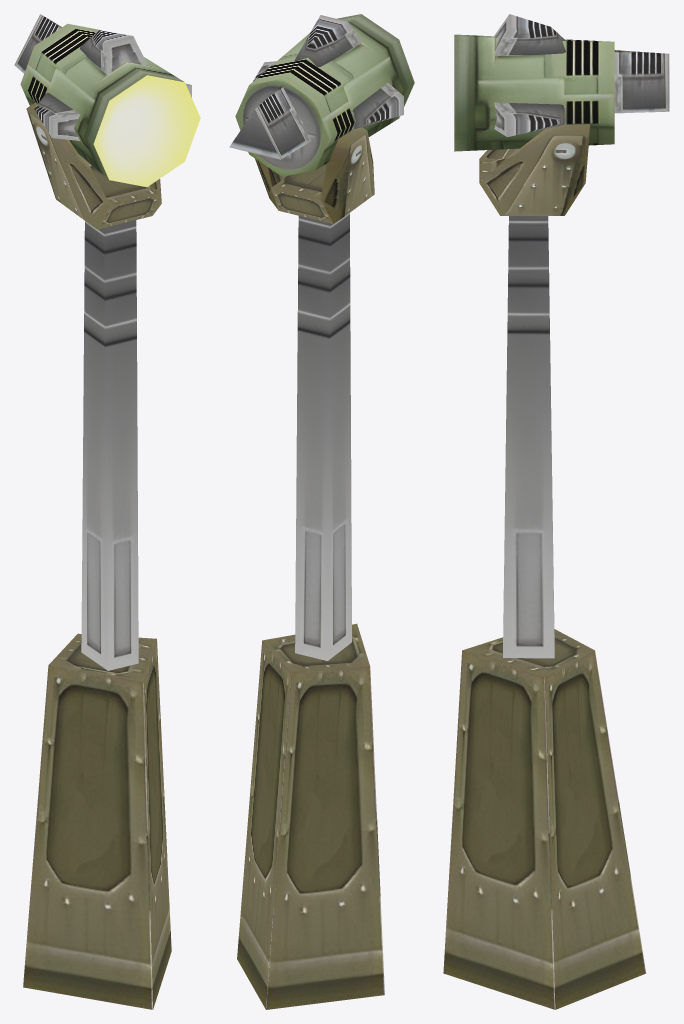
The model's file is spotlight_hdtex.glb.
The picture shows the model from 3 angles, left to right: view 1: azimuth 30°, elevation 25°; view 2: azimuth 150°, elevation 25°; view 3: azimuth 270°, elevation 25°; orthographic projection.
Visible parts, largest first — view 1: L_SpotLight, L_SpotBattery, L_SpotRotar; view 2: L_SpotLight, L_SpotBattery, L_SpotRotar; view 3: L_SpotLight, L_SpotBattery, L_SpotRotar.
Part boxes in pixels (left/top/right/bottom): L_SpotLight: left=23, top=220, right=171, bottom=1009; L_SpotBattery: left=14, top=14, right=200, bottom=187; L_SpotRotar: left=26, top=102, right=161, bottom=229; L_SpotLight: left=237, top=213, right=384, bottom=1009; L_SpotBattery: left=229, top=14, right=414, bottom=176; L_SpotRotar: left=255, top=127, right=374, bottom=223; L_SpotLight: left=443, top=216, right=646, bottom=1009; L_SpotBattery: left=454, top=14, right=669, bottom=151; L_SpotRotar: left=479, top=124, right=589, bottom=215.
Size of the model in its own units: 3.08 by 18.75 by 4.03.
Materials: 1 (1 with a texture image).
